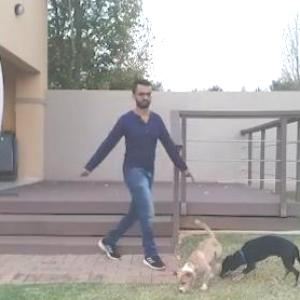land: (72, 84, 189, 275)
